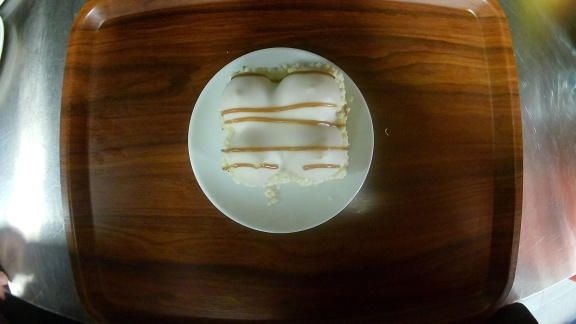beyazpasta: (187, 46, 374, 232)
